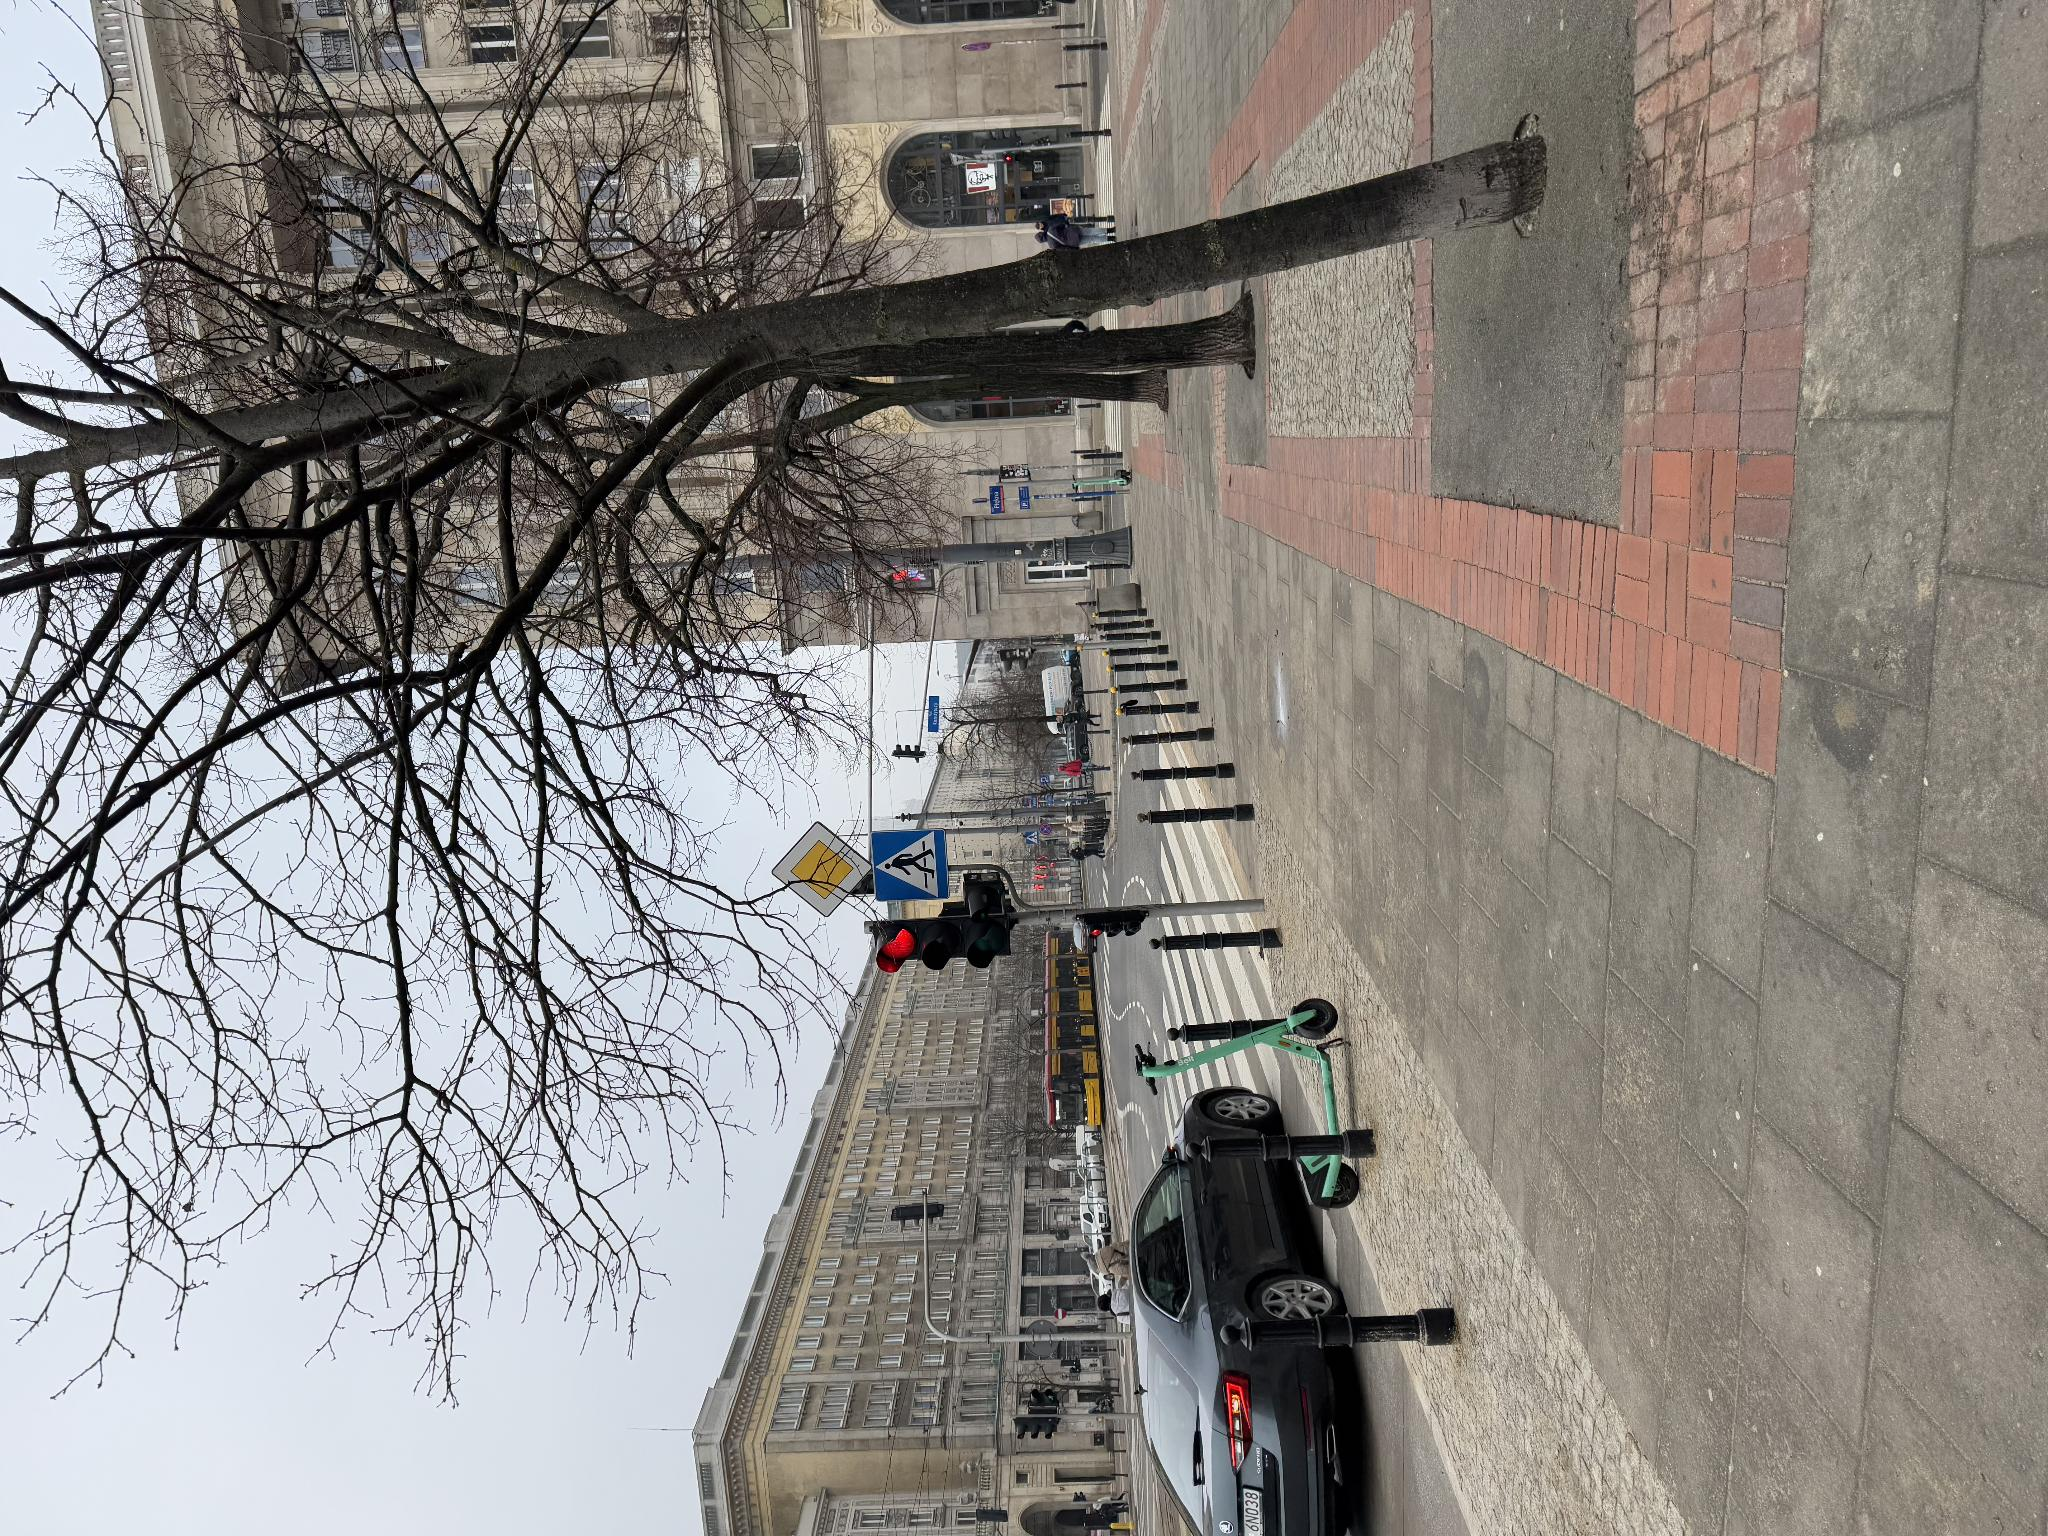information: (619, 771, 714, 873), (634, 871, 708, 950), (692, 1026, 705, 1039)
prohibitory: (218, 1054, 229, 1066), (701, 1041, 713, 1052)
